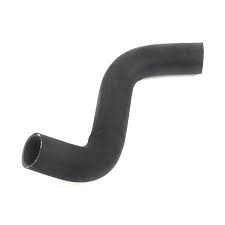radiator_hose: (23, 42, 204, 183)
